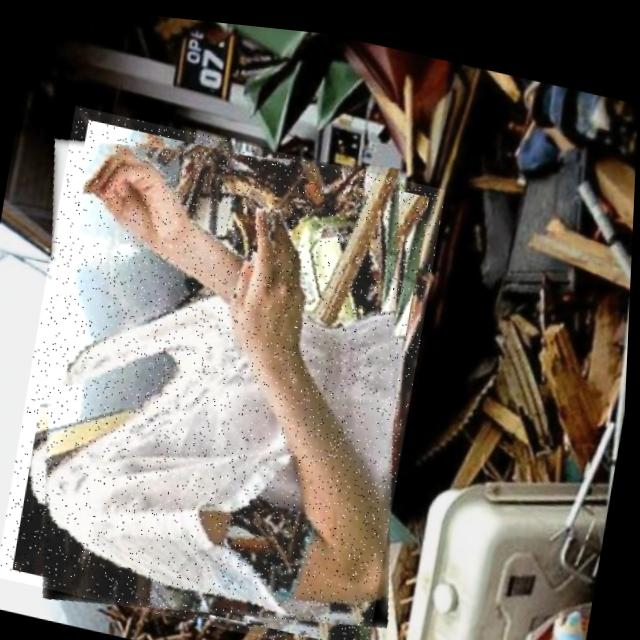Person in Rubble: (0, 98, 449, 640)
